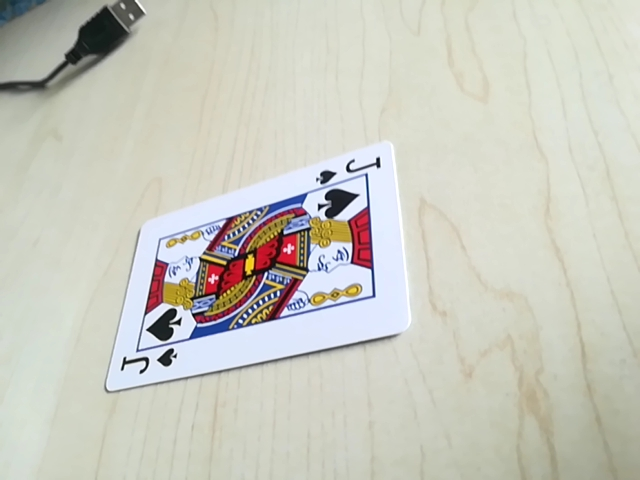ht j: (114, 339, 183, 382), (314, 156, 383, 188)
